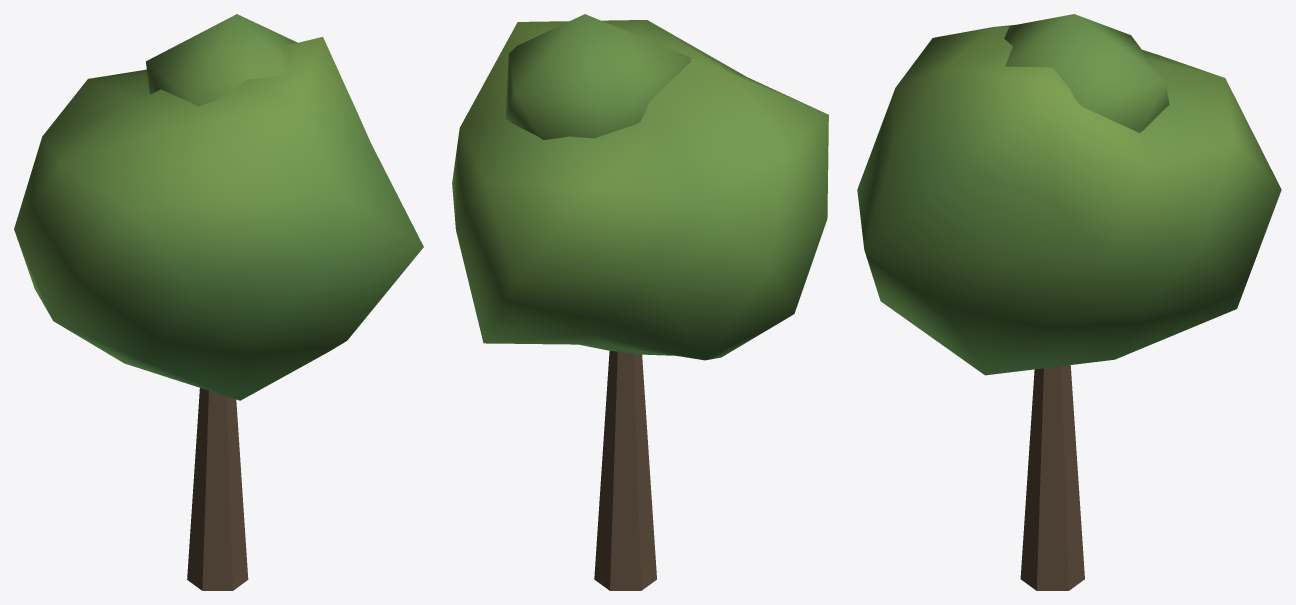
Rendered from tree_broadleaf_lod1.glb.
3 views of the same model, side by side, from view 1: azimuth 30°, elevation 25°; view 2: azimuth 150°, elevation 25°; view 3: azimuth 270°, elevation 25° (orthographic). The views are drawn at different scales.
Visible parts, largest first — view 1: tree_broadleaf_lod1; view 2: tree_broadleaf_lod1; view 3: tree_broadleaf_lod1.
Boxes of the visible parts, box(x1,y1,x2,y2) form: tree_broadleaf_lod1: box(14, 14, 423, 590); tree_broadleaf_lod1: box(452, 14, 828, 590); tree_broadleaf_lod1: box(857, 14, 1281, 590).
Bounding box in the file's own units: 5.36 × 8.94 × 5.93.
